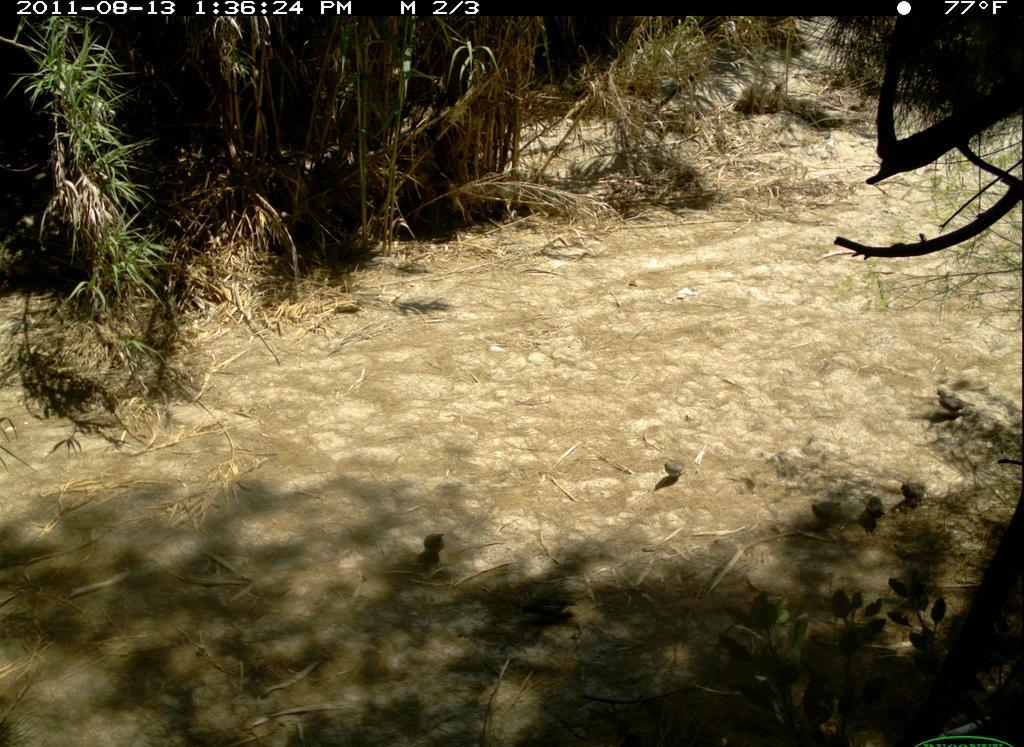bird: (521, 595, 580, 625), (934, 387, 978, 422), (806, 496, 848, 529), (418, 528, 452, 565), (898, 478, 934, 506), (865, 492, 889, 524), (661, 455, 689, 482)
